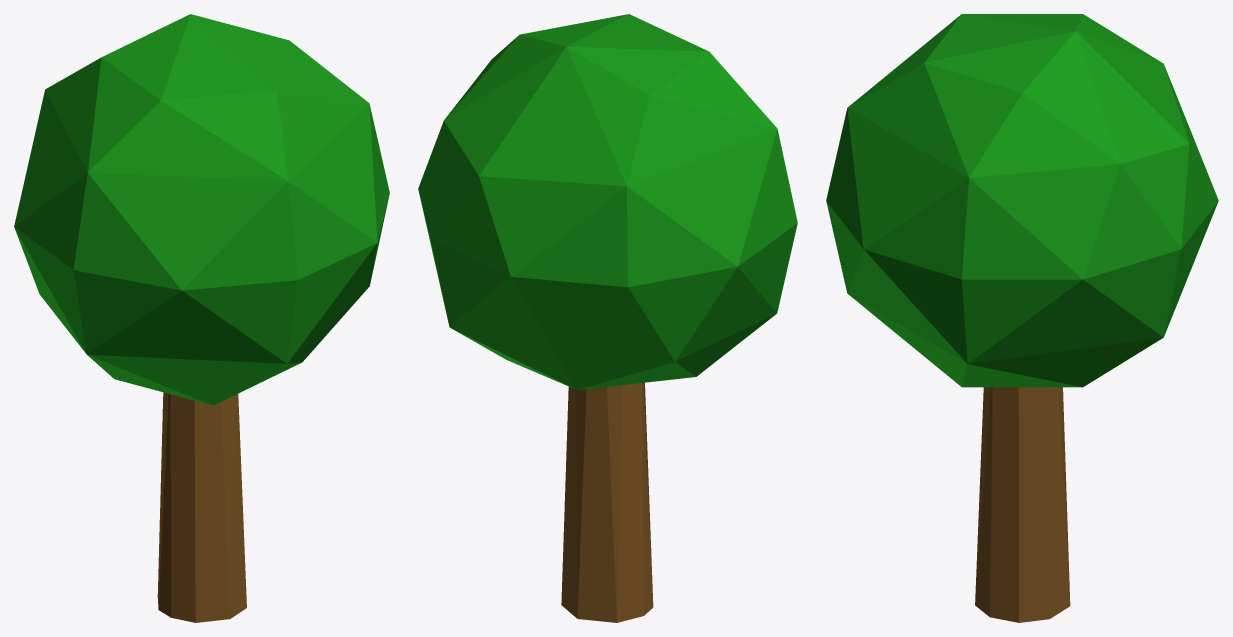
Rendered from tree1.fbx.
3 renders of one model, left to right at view 1: azimuth 30°, elevation 25°; view 2: azimuth 150°, elevation 25°; view 3: azimuth 270°, elevation 25°, orthographic. The views are drawn at different scales.
Visible parts, largest first — view 1: Icosphere, Cylinder; view 2: Icosphere, Cylinder; view 3: Icosphere, Cylinder.
Part boxes in pixels (x1,y1,x2,y2): Icosphere: [14, 14, 389, 405]; Cylinder: [157, 392, 246, 622]; Icosphere: [418, 14, 797, 389]; Cylinder: [561, 382, 653, 622]; Icosphere: [826, 14, 1218, 387]; Cylinder: [975, 387, 1070, 622].
Size of the model in its own units: 676 by 1157 by 711.
